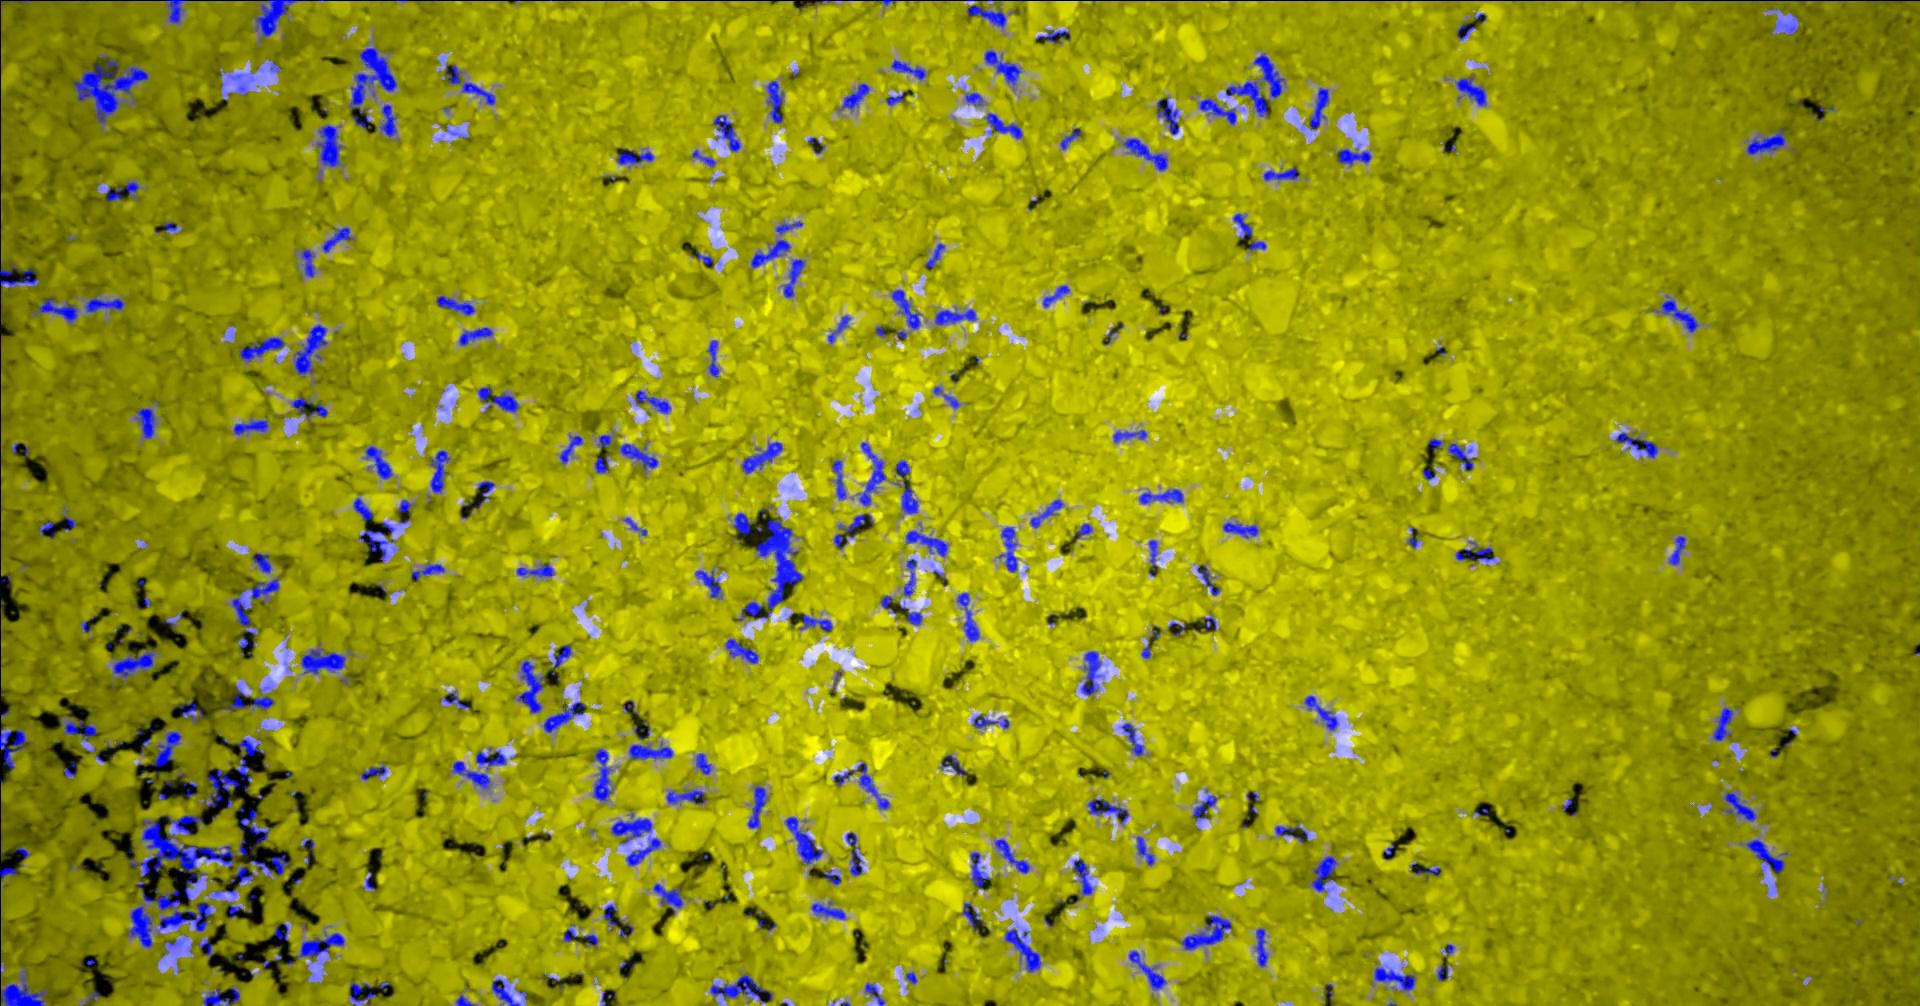ant: (203, 738, 264, 807), (833, 762, 889, 809), (0, 263, 37, 321), (444, 64, 494, 104), (783, 815, 823, 864), (254, 0, 305, 37), (1651, 295, 1698, 332), (710, 974, 771, 1002), (1181, 915, 1230, 949), (858, 442, 885, 506), (295, 324, 326, 375), (0, 970, 47, 1005), (1004, 929, 1040, 970), (1225, 81, 1269, 116), (1128, 950, 1164, 989), (295, 932, 344, 962), (220, 685, 273, 711), (1123, 138, 1167, 170), (833, 513, 872, 549), (517, 661, 543, 713), (112, 649, 154, 681), (1253, 53, 1284, 97), (151, 730, 182, 774), (1745, 840, 1784, 873), (742, 441, 782, 473), (611, 813, 651, 843), (543, 702, 585, 732), (984, 50, 1020, 84), (1304, 695, 1338, 730), (358, 528, 394, 561), (905, 528, 947, 556), (300, 648, 345, 673), (895, 460, 917, 513), (994, 840, 1029, 873), (239, 337, 284, 361), (750, 239, 790, 267), (34, 297, 77, 323), (127, 904, 152, 948), (239, 808, 270, 842), (231, 589, 255, 634), (316, 124, 342, 166), (891, 290, 919, 328), (1615, 432, 1657, 457), (452, 760, 490, 788), (592, 748, 612, 800), (956, 592, 978, 640), (477, 386, 518, 412), (0, 728, 25, 768), (712, 114, 740, 151), (966, 0, 1004, 27), (625, 837, 660, 865), (1199, 98, 1236, 124), (985, 112, 1022, 138), (1087, 798, 1128, 822), (1746, 128, 1784, 154), (618, 443, 657, 469), (997, 526, 1017, 572), (1374, 967, 1415, 989), (1723, 791, 1755, 821), (364, 445, 392, 478), (1030, 499, 1063, 527), (1310, 855, 1336, 890), (653, 883, 682, 913), (1079, 652, 1100, 695), (1455, 77, 1486, 105), (1156, 97, 1178, 133), (1309, 86, 1328, 130), (635, 390, 670, 413), (725, 638, 757, 663), (783, 258, 804, 297), (1455, 540, 1495, 560), (430, 450, 450, 492), (747, 786, 766, 828), (63, 716, 97, 741), (841, 83, 869, 111), (323, 226, 353, 251), (436, 295, 474, 315), (291, 398, 328, 418), (969, 852, 989, 889), (1073, 857, 1093, 894), (766, 80, 783, 122), (491, 978, 519, 1005), (629, 743, 672, 760), (844, 832, 861, 875), (695, 570, 721, 597), (250, 575, 279, 600), (890, 58, 924, 79), (1138, 488, 1183, 503), (1121, 723, 1143, 754), (165, 815, 201, 835), (105, 180, 138, 201), (935, 309, 975, 325), (1712, 708, 1732, 741), (559, 434, 582, 464), (202, 987, 239, 1005), (810, 901, 844, 920), (84, 296, 123, 312), (135, 406, 155, 438), (1448, 443, 1472, 470), (827, 315, 850, 343), (1197, 565, 1219, 594), (458, 326, 491, 345), (1192, 795, 1217, 821), (1043, 285, 1069, 307), (349, 982, 376, 1005), (1222, 521, 1258, 537), (411, 563, 444, 580), (799, 614, 832, 631), (475, 747, 505, 766), (378, 104, 396, 136), (616, 149, 653, 164), (830, 460, 844, 499), (933, 386, 959, 408), (1337, 149, 1370, 165), (1274, 826, 1307, 842), (232, 419, 268, 434), (665, 789, 703, 803), (165, 0, 188, 23), (898, 602, 921, 625), (180, 699, 203, 721), (1137, 836, 1154, 865), (940, 754, 965, 775), (229, 865, 254, 885), (1669, 535, 1685, 565), (1263, 166, 1299, 180), (603, 904, 623, 929), (903, 558, 916, 596), (1255, 929, 1267, 967), (963, 902, 979, 931), (1035, 29, 1069, 43), (516, 563, 552, 575), (550, 644, 570, 667), (1232, 213, 1251, 238), (924, 243, 943, 267), (439, 692, 469, 708), (863, 983, 884, 1005), (353, 497, 372, 520), (1112, 429, 1145, 442), (270, 854, 290, 875), (300, 248, 314, 277), (692, 149, 715, 166), (623, 517, 646, 535), (248, 859, 270, 876), (1060, 128, 1079, 149), (733, 512, 750, 533), (1148, 539, 1158, 575), (251, 553, 270, 572), (707, 340, 717, 376), (775, 220, 803, 232), (361, 765, 386, 779), (476, 481, 494, 500), (397, 499, 411, 523), (691, 250, 712, 265), (973, 714, 998, 727), (1457, 23, 1476, 39), (237, 636, 254, 655), (695, 753, 710, 774), (1072, 523, 1091, 539), (273, 922, 288, 941), (0, 866, 18, 882), (823, 869, 841, 884), (39, 520, 55, 536), (885, 91, 903, 105), (594, 455, 608, 473), (198, 937, 212, 955), (965, 91, 982, 105), (237, 838, 251, 855), (182, 781, 196, 796), (63, 761, 76, 777), (1408, 527, 1418, 547), (1413, 868, 1440, 875), (597, 434, 611, 448), (229, 904, 243, 918), (1203, 616, 1215, 631), (455, 995, 474, 1005), (1436, 964, 1448, 981), (563, 929, 577, 941), (1427, 438, 1441, 450), (880, 594, 891, 608), (583, 934, 597, 945), (1247, 241, 1265, 250), (163, 221, 177, 231)
